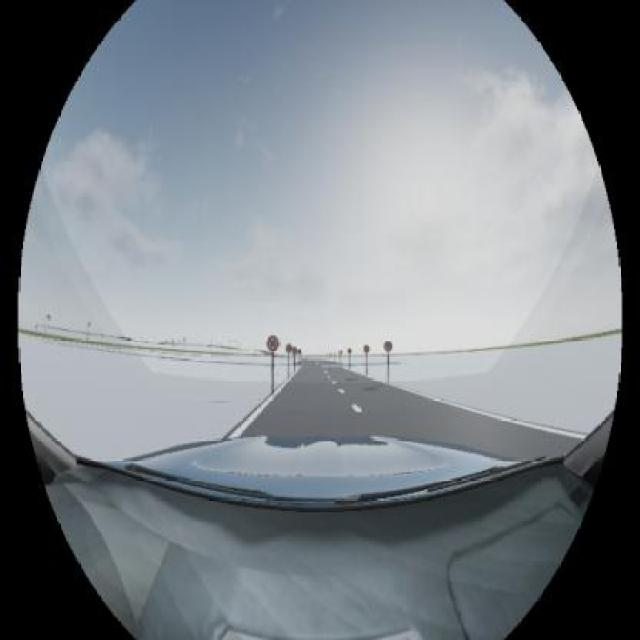forb_speed_over_10: (266, 335, 279, 352)
